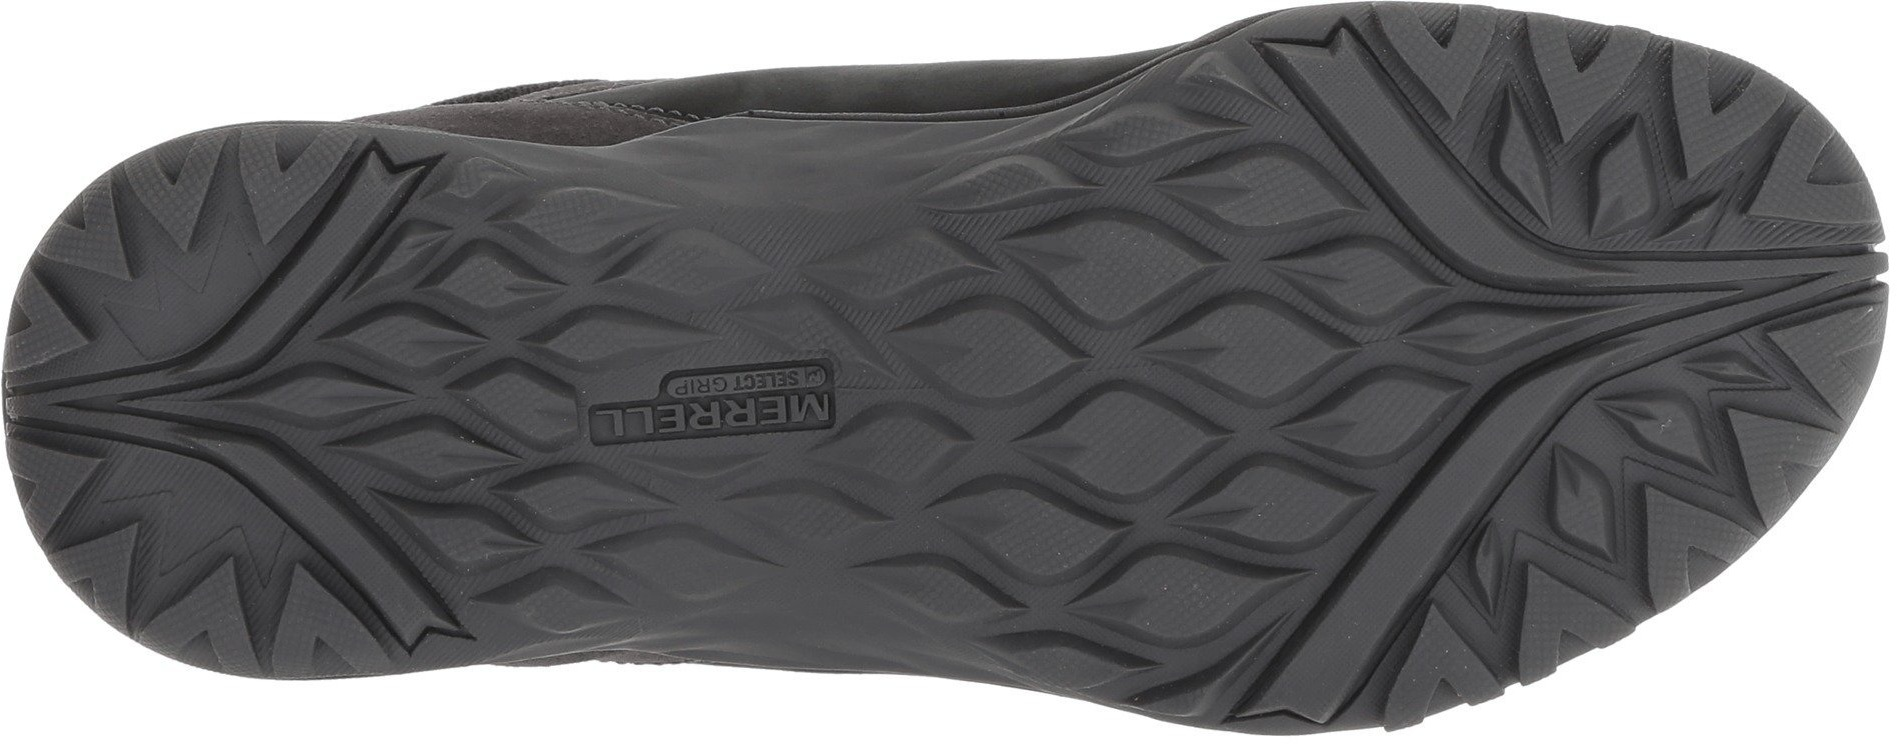chevron: (7, 429, 267, 700), (1493, 231, 1857, 413), (1400, 546, 1650, 733), (19, 148, 253, 339), (1370, 5, 1538, 142), (1504, 21, 1683, 148), (1656, 54, 1811, 188)
quad: (1493, 231, 1857, 413), (577, 335, 871, 496)
text: (577, 335, 871, 496), (655, 340, 788, 465)
triangle: (7, 429, 267, 700), (1400, 546, 1650, 733), (19, 148, 253, 339), (1370, 5, 1538, 142), (1504, 21, 1683, 148), (1656, 54, 1811, 188)
